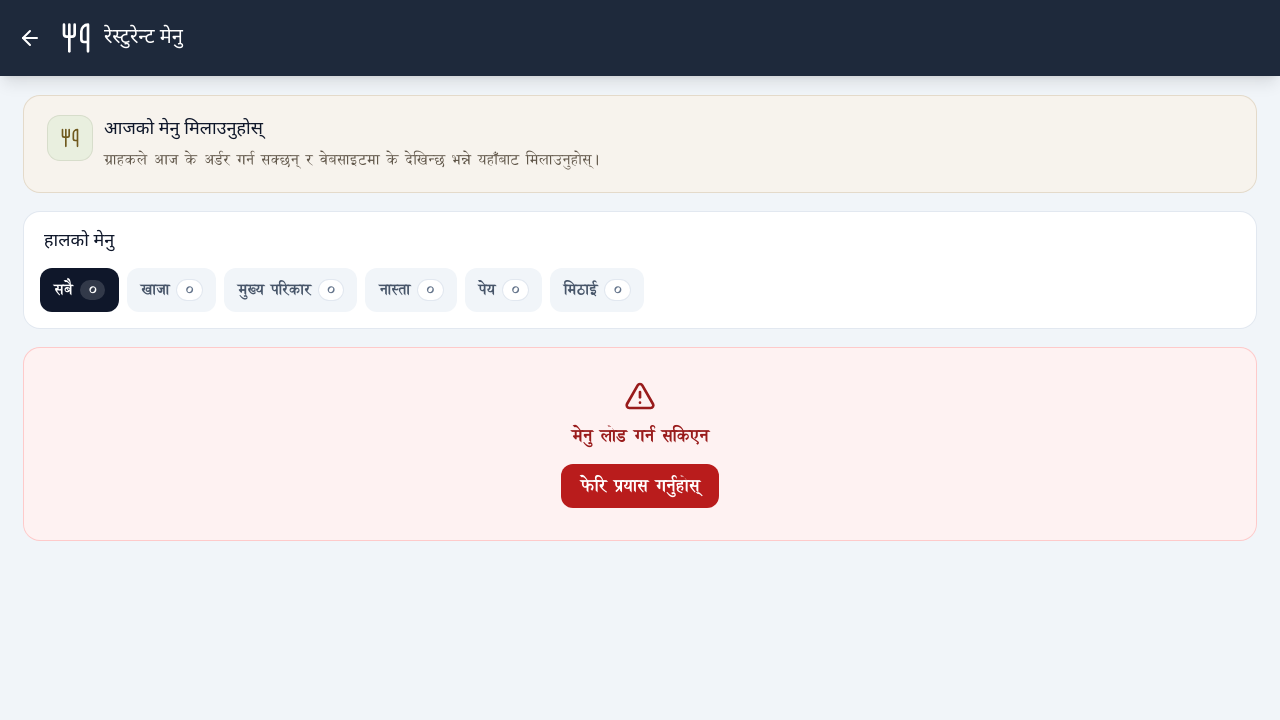
Test: RestaurantMenuPage › shows an error with retry, an empty state, and Nepali labels
Expected: the message shows "मेनु लोड गर्न सकिएन", [572, 422, 708, 449]
Click the button "फेरि प्रयास गर्नुहोस्" at (640, 486), box [561, 464, 719, 508]
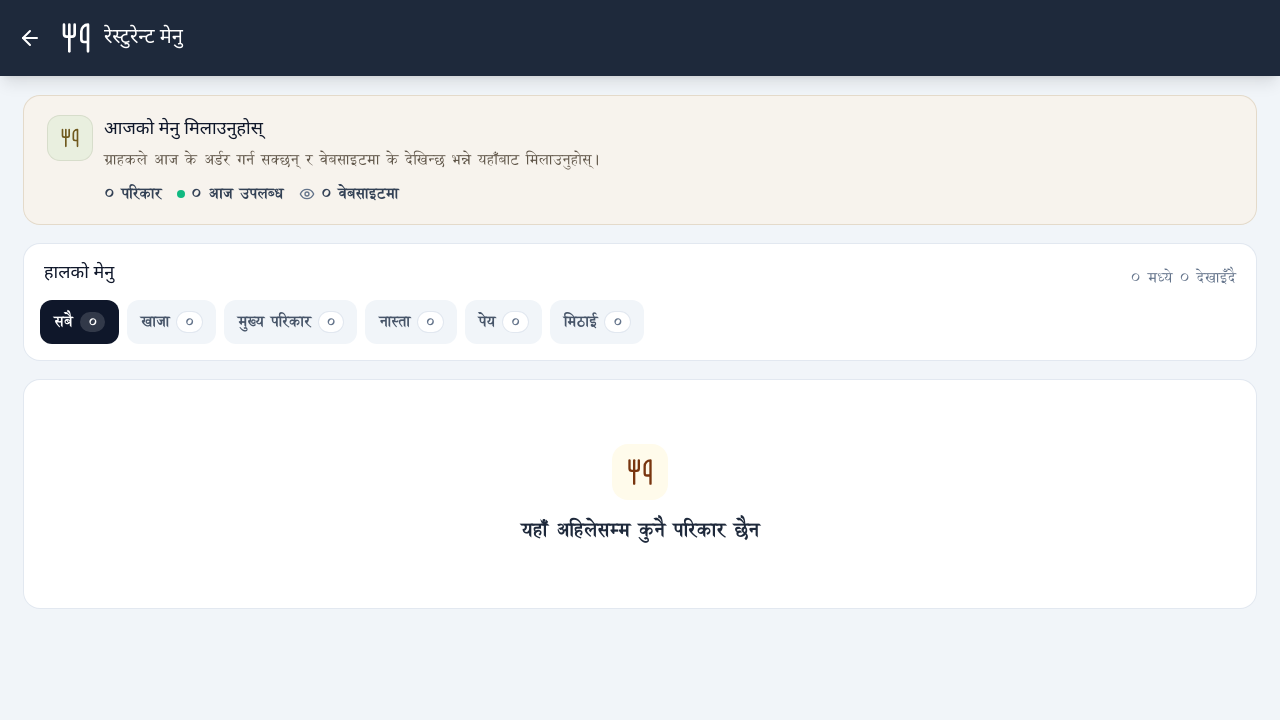
Expected: the heading "रेस्टुरेन्ट मेनु" is shown, [104, 26, 183, 50]
Result: the text "यहाँ अहिलेसम्म कुनै परिकार छैन" is shown at [521, 515, 759, 545]
Result: the text "० परिकार" is shown at [104, 184, 161, 204]
